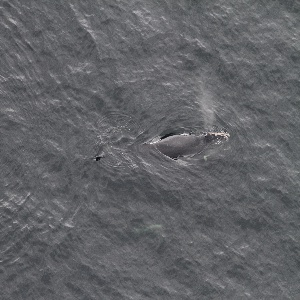cetacean: (94, 130, 229, 171)
